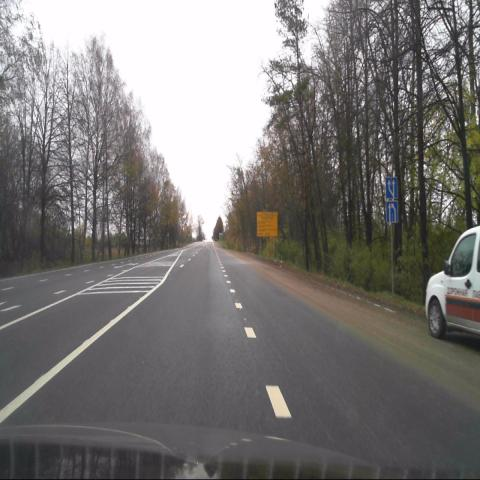5_15_3: (385, 177, 397, 198)
5_15_5: (386, 201, 397, 222)
